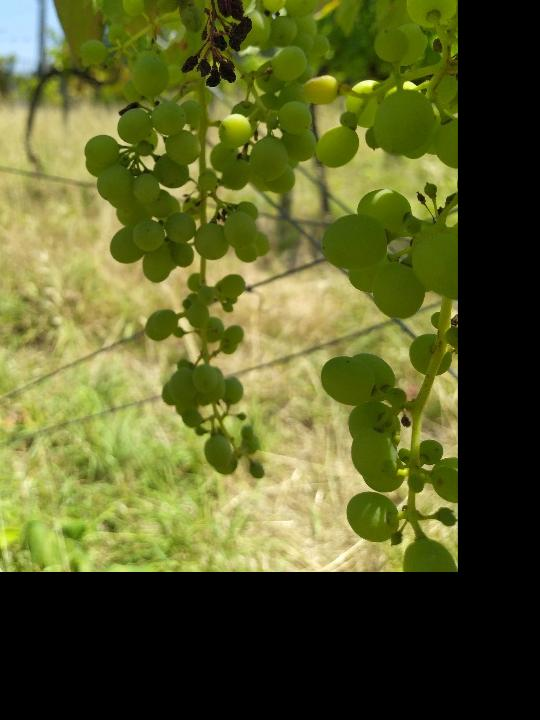grape: (68, 0, 337, 494), (155, 0, 336, 92)
